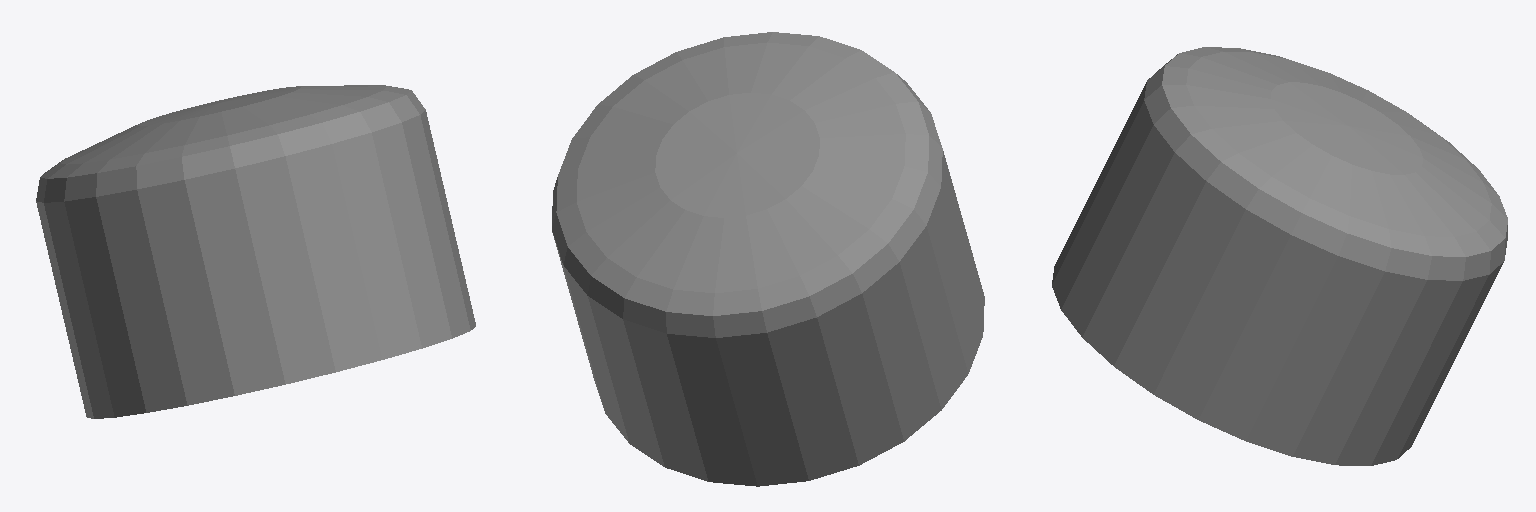
The model's file is button_a.obj.
The picture shows the model from 3 angles: view 1: azimuth 30°, elevation 25°; view 2: azimuth 150°, elevation 25°; view 3: azimuth 270°, elevation 25°; orthographic projection.
Visible parts, largest first — view 1: l_button_a; view 2: l_button_a; view 3: l_button_a.
Part boxes in pixels (left/top/right/bottom): l_button_a: left=36, top=85, right=475, bottom=418; l_button_a: left=552, top=32, right=984, bottom=486; l_button_a: left=1052, top=47, right=1507, bottom=465.
Size of the model in its own units: 0.009 by 0.0086 by 0.0102.